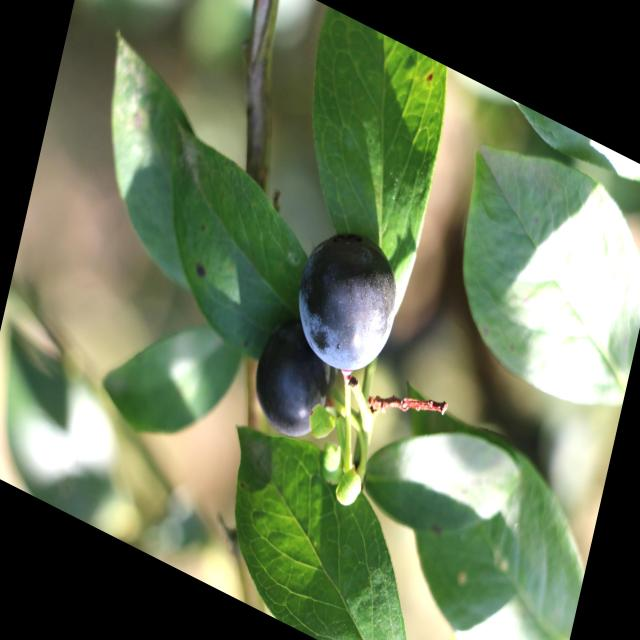blueberry: (286, 208, 410, 391), (247, 308, 338, 454)
